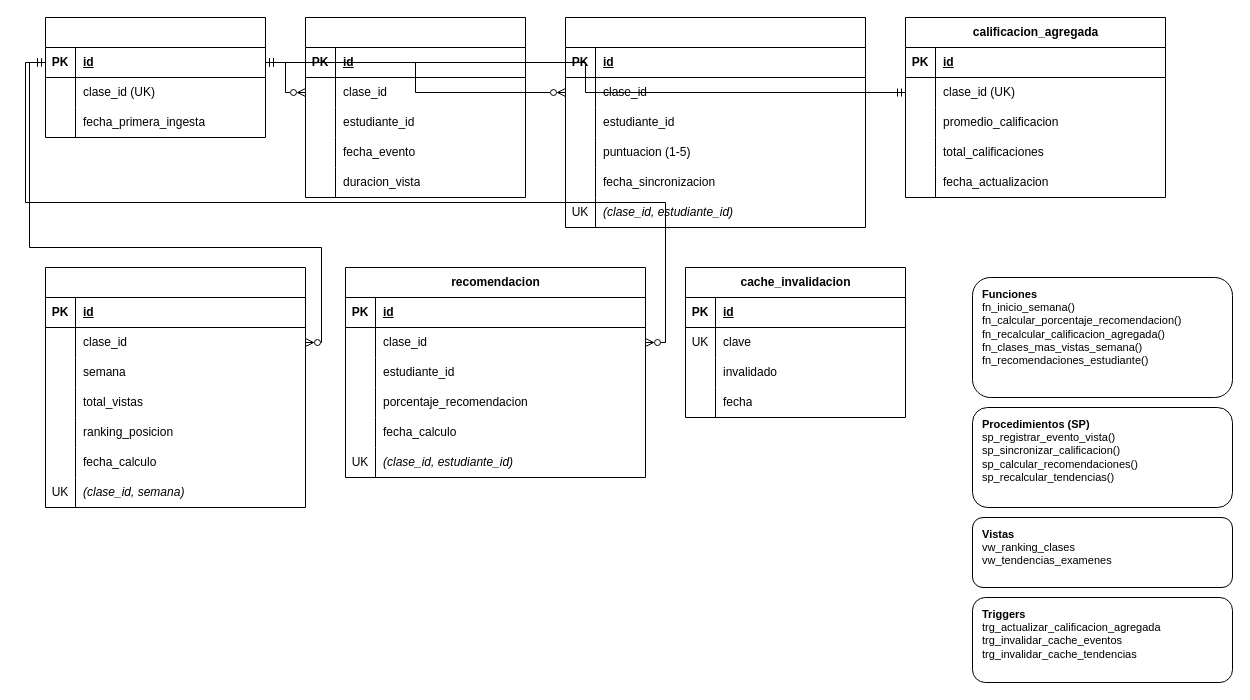
This 1250x700 diagram has some shape labels left out. Here are the shapes that lost their labels. From the top down, the box of each, then its label:
(44, 16, 266, 138): clase_metrica
(304, 16, 526, 198): evento_vista
(564, 16, 866, 228): sincronizacion_calificacion
(44, 266, 306, 508): tendencia_semanal
